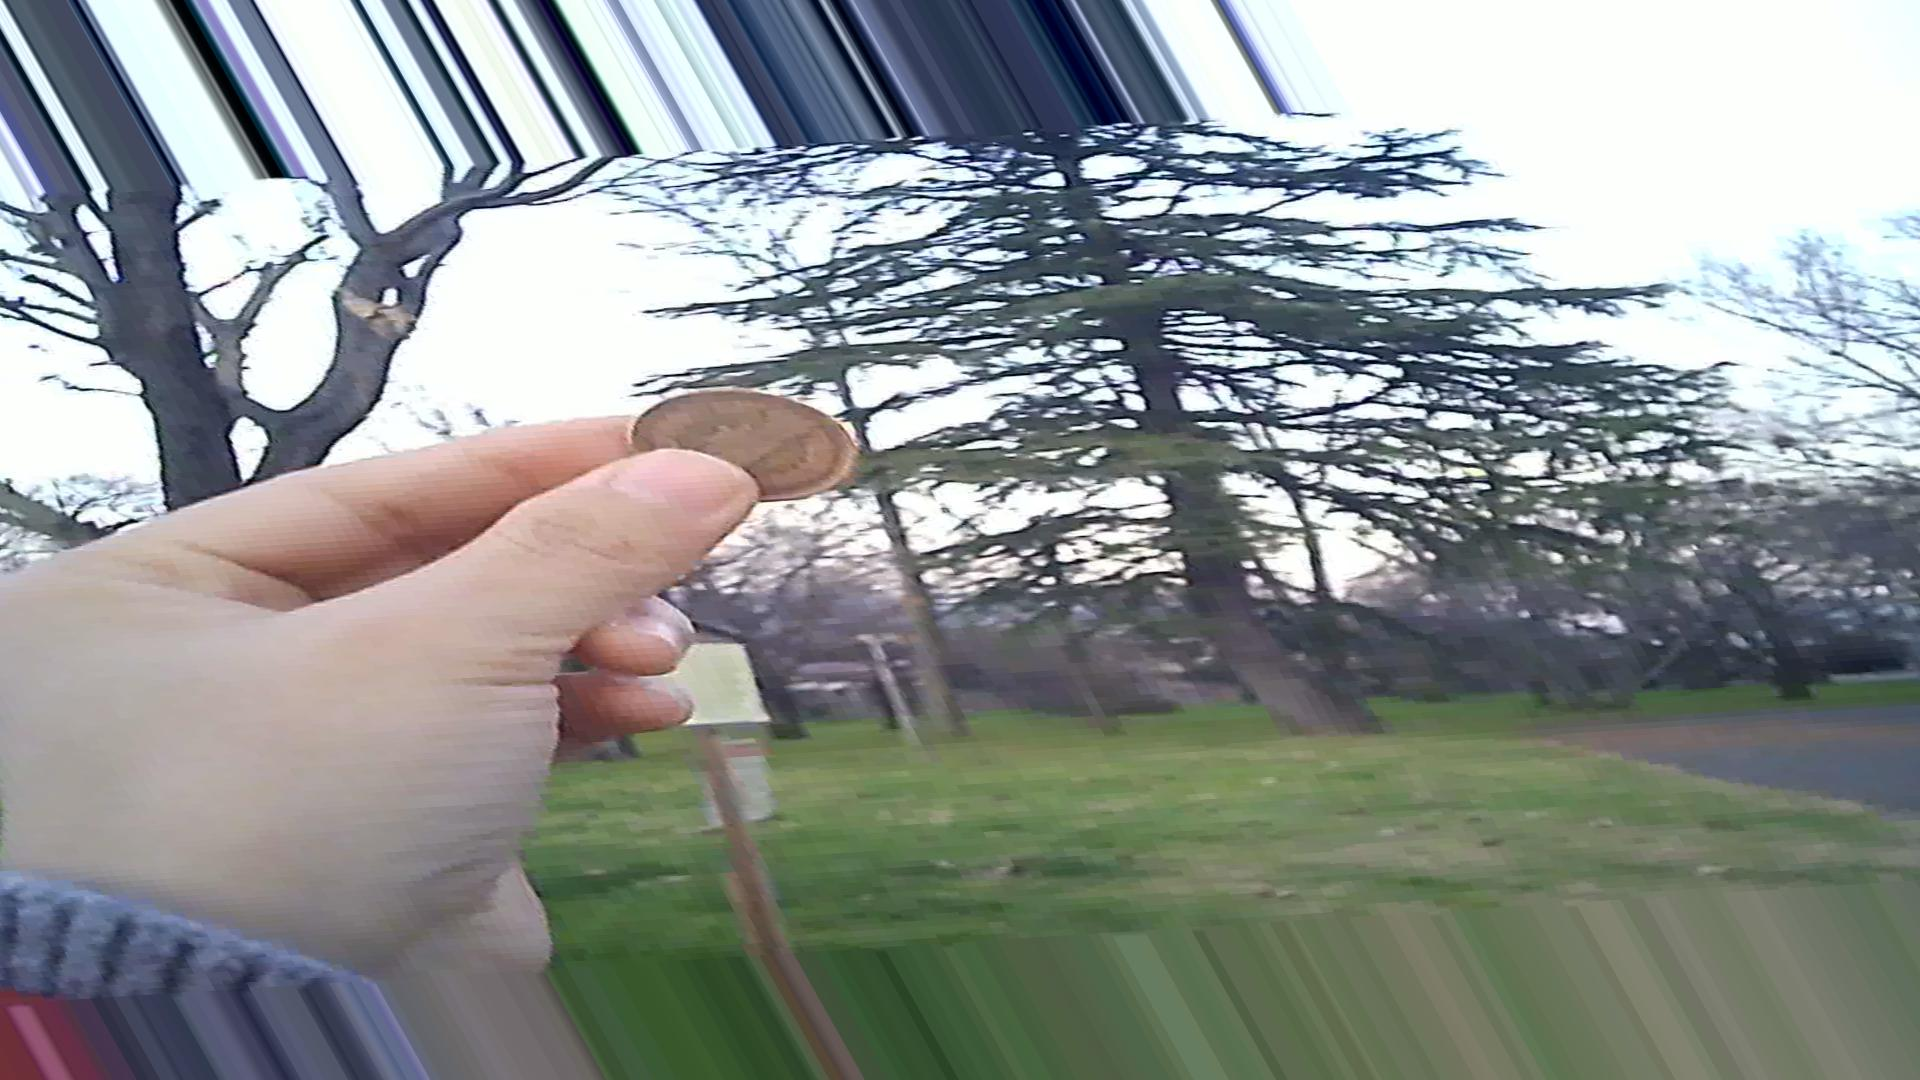10 Yen: (626, 388, 873, 525)
